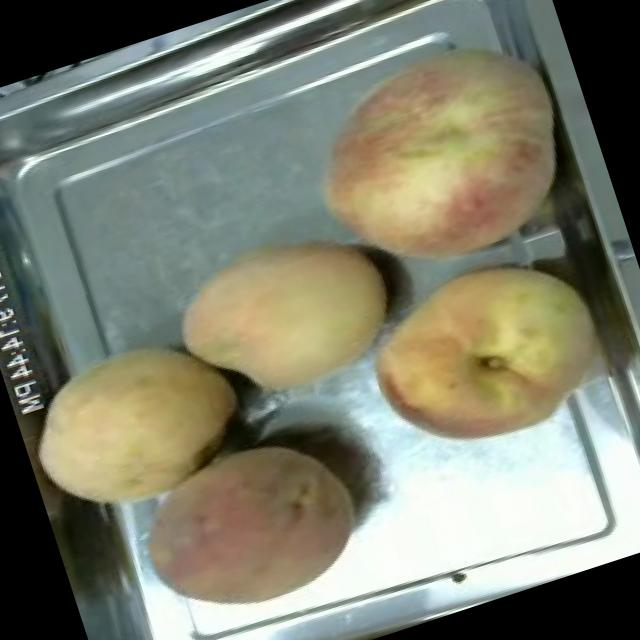Fruit: (273, 0, 603, 313), (336, 222, 631, 486), (109, 402, 387, 640), (153, 203, 420, 431), (5, 312, 268, 542)
